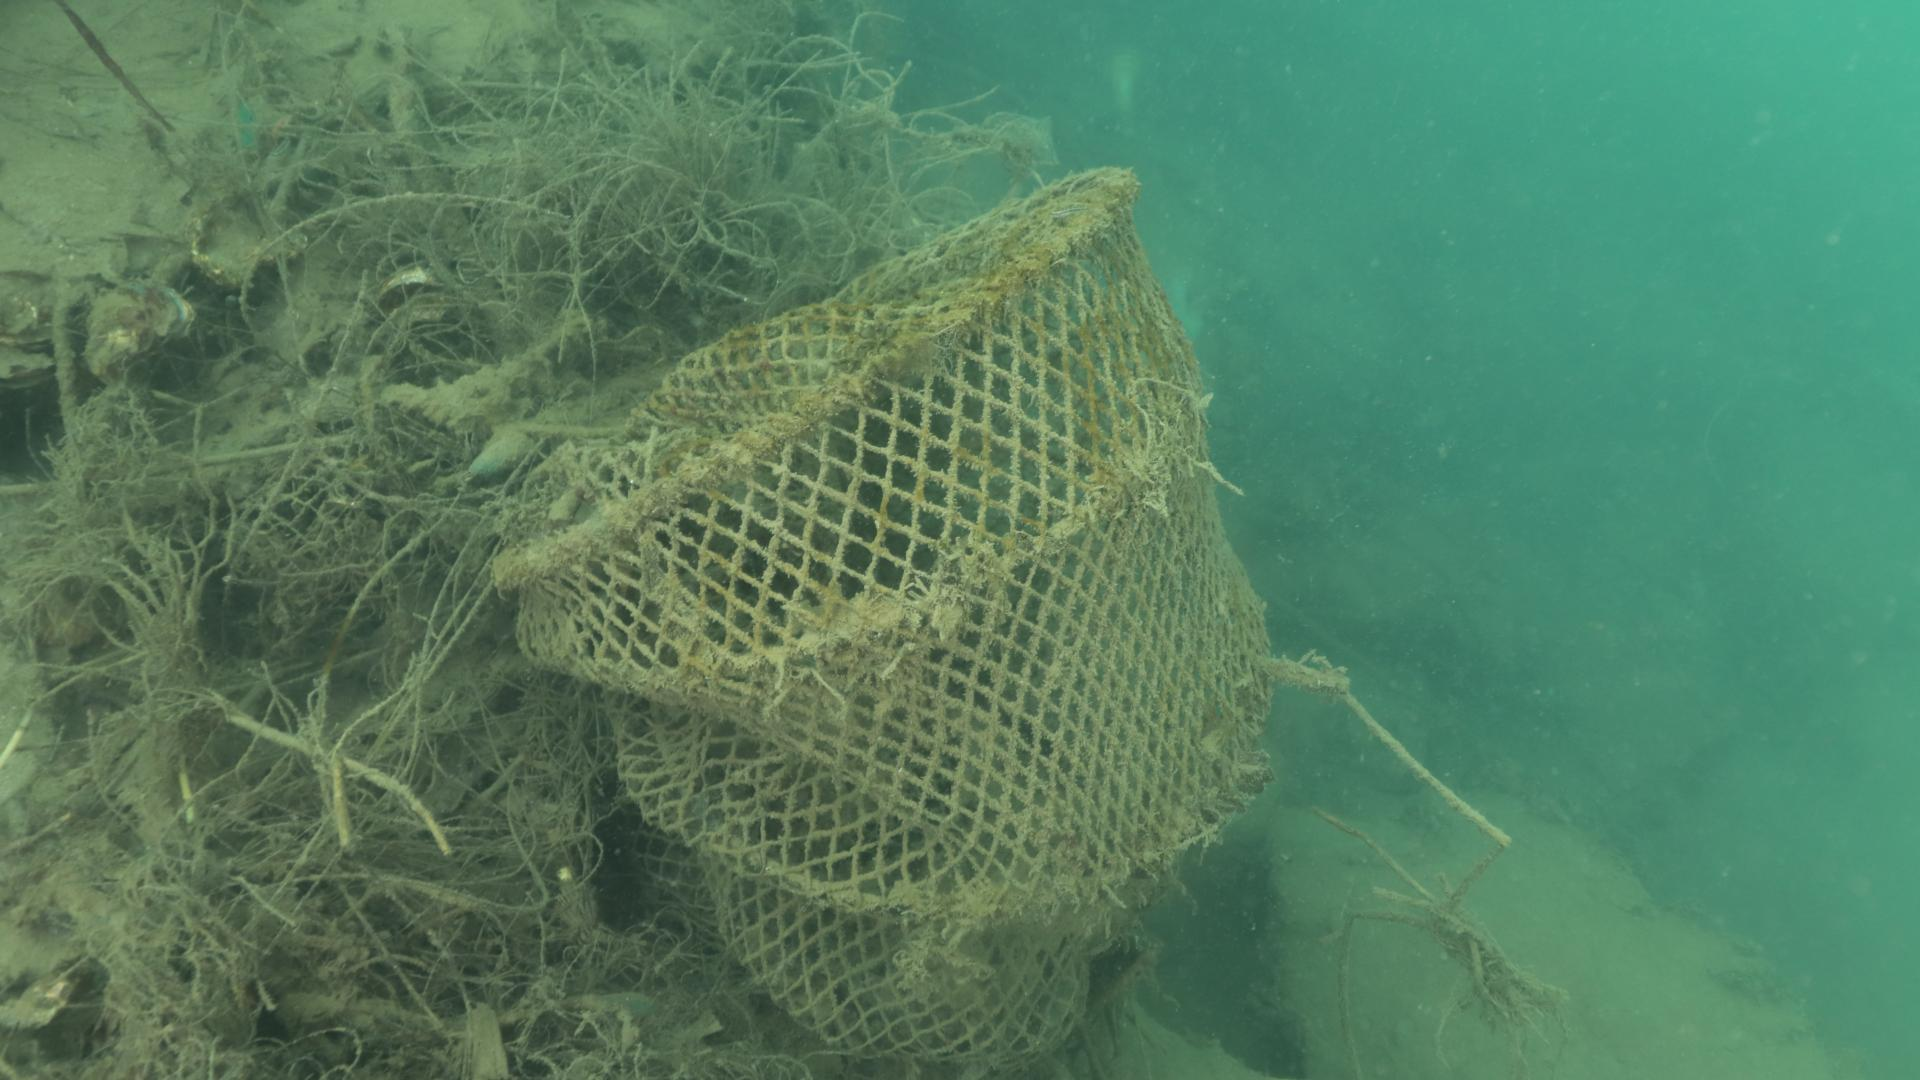spring fish trap: (487, 165, 1273, 1072)
